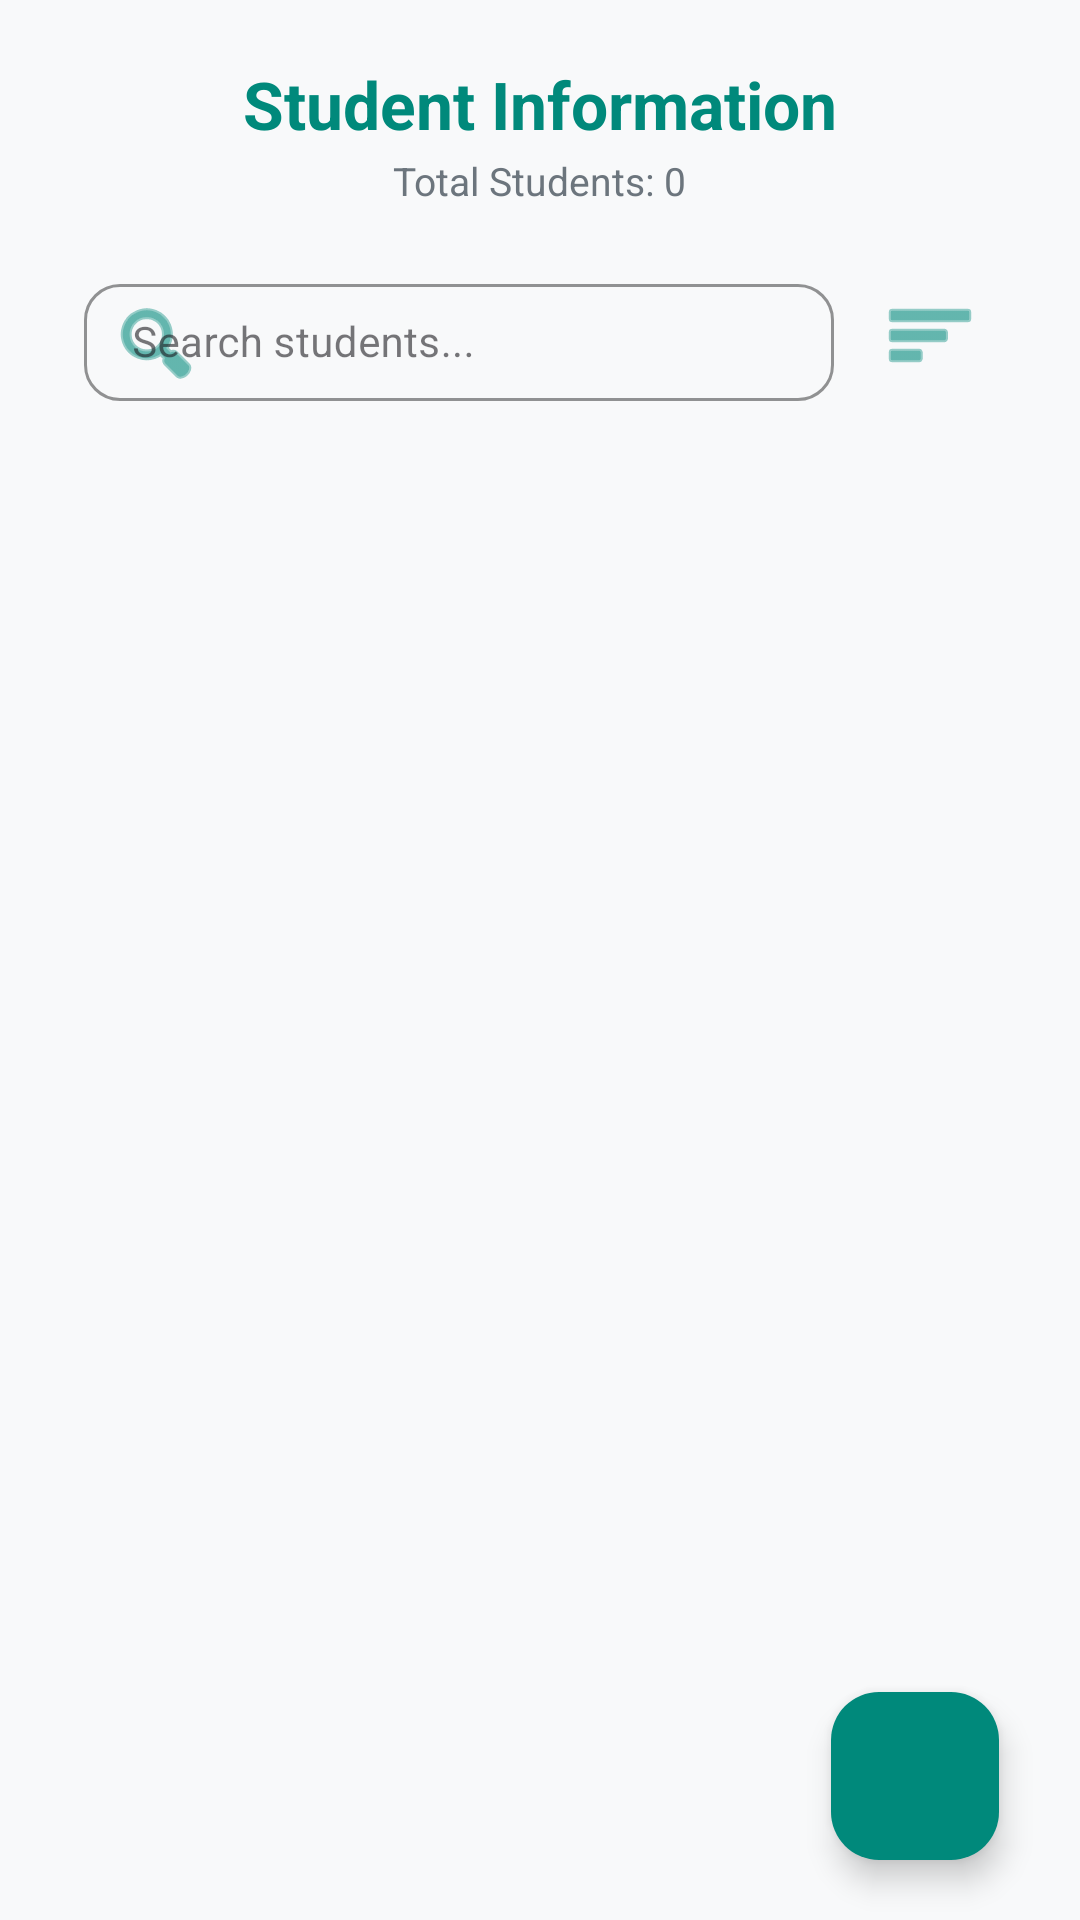

Icons on this 1080*1920 Android screen, each with the point to tap as point (x, y):
Sort: point (930, 335)
